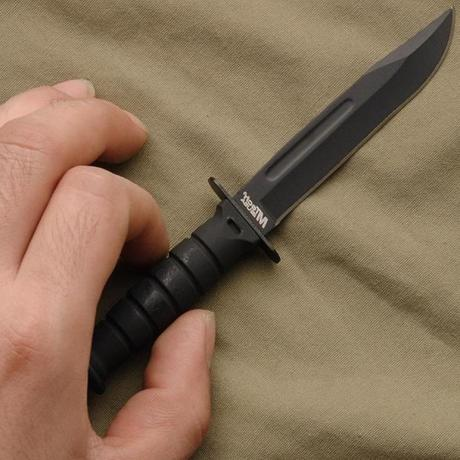weapon: (84, 4, 456, 387)
